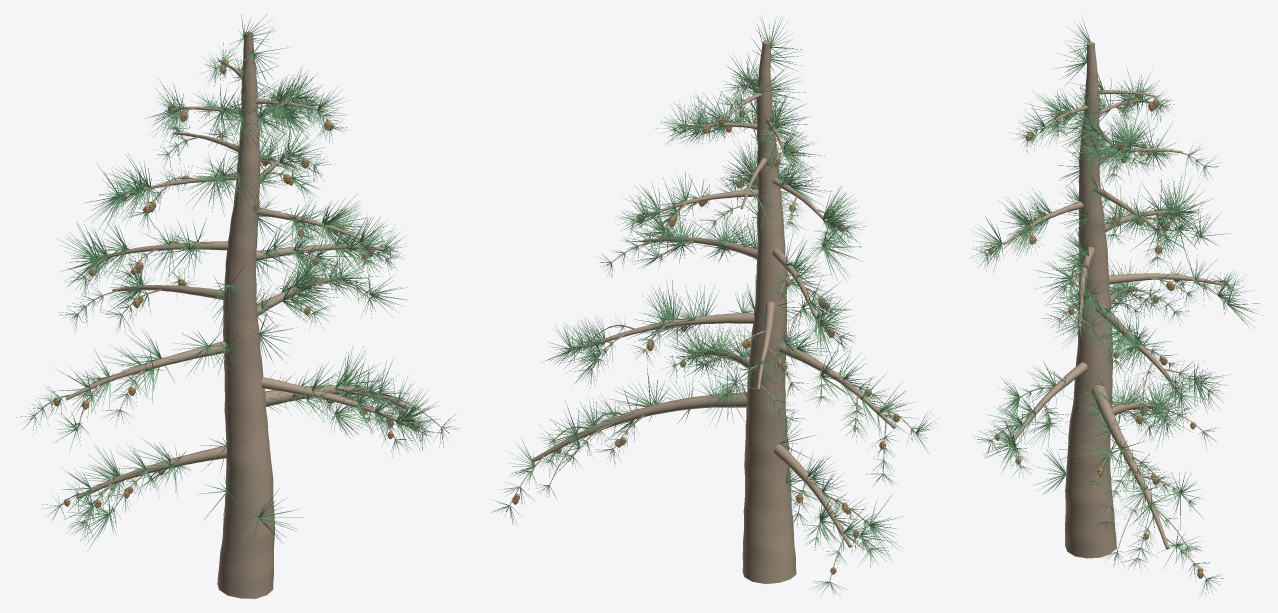
File: real_song.glb
3 renders of one model, left to right at view 1: azimuth 30°, elevation 25°; view 2: azimuth 150°, elevation 25°; view 3: azimuth 270°, elevation 25°, orthographic. The views are drawn at different scales.
Visible parts, largest first — view 1: PineNeedles, PineWood, PineCones; view 2: PineNeedles, PineWood, PineCones; view 3: PineNeedles, PineWood, PineCones.
Boxes of the visible parts, x1,y1,x2,y2 form: PineNeedles: (16, 14, 459, 551); PineWood: (30, 31, 449, 598); PineCones: (53, 59, 417, 507); PineNeedles: (490, 16, 938, 597); PineWood: (505, 40, 915, 587); PineCones: (511, 80, 900, 574); PineNeedles: (969, 18, 1263, 597); PineWood: (985, 42, 1229, 584); PineCones: (988, 90, 1203, 578).
Size of the model in its own units: 6.66 by 9 by 4.54.
